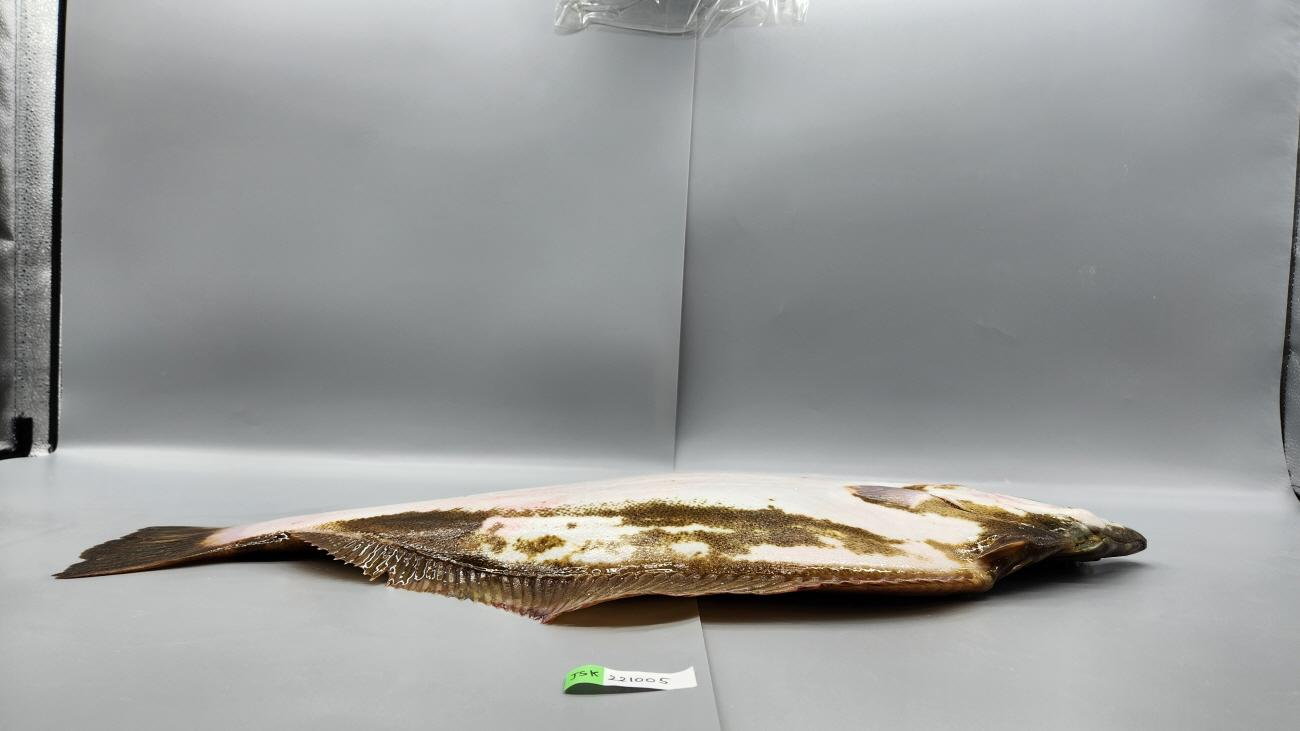POOUN: (50, 471, 1148, 625)
